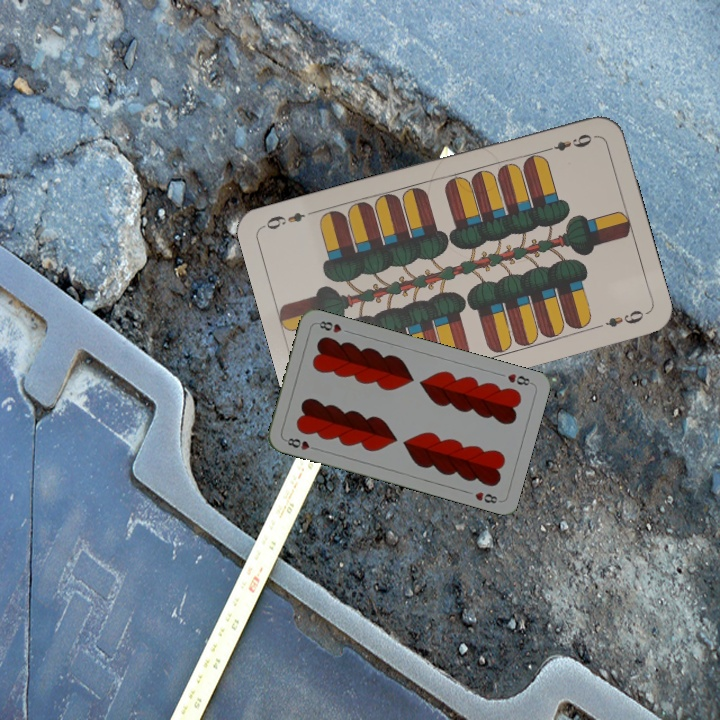E9: (540, 130, 595, 155)
H8: (281, 434, 321, 453), (503, 369, 535, 388)
